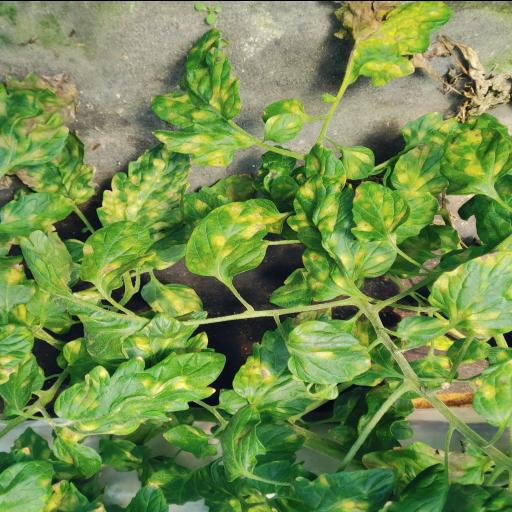Leaf Mold: (52, 350, 226, 478), (152, 26, 254, 166), (286, 172, 397, 294), (334, 0, 454, 87), (96, 142, 191, 242), (402, 111, 512, 195), (0, 70, 78, 166), (428, 249, 512, 337), (185, 202, 269, 276), (78, 219, 156, 289), (287, 320, 372, 384), (349, 180, 409, 242), (0, 191, 76, 237), (390, 140, 448, 194)
